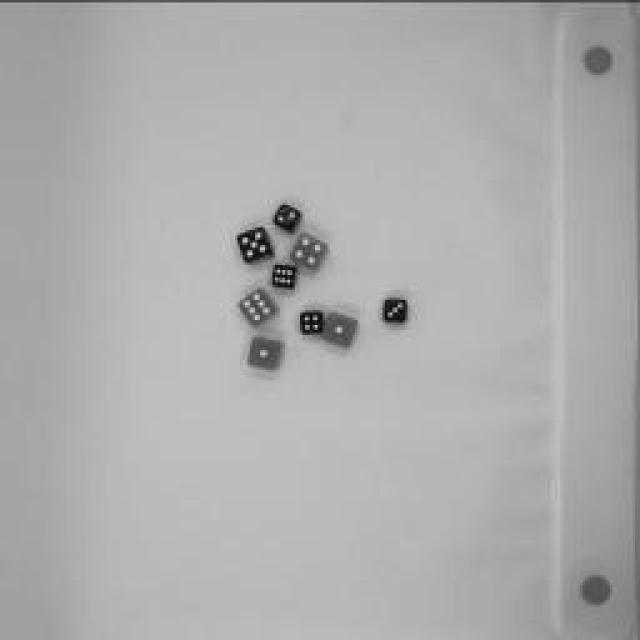dice_1: (245, 330, 290, 378), (318, 306, 362, 354)
dice_2: (269, 195, 306, 235)
dice_3: (379, 290, 416, 328)
dice_4: (287, 228, 335, 274), (295, 305, 327, 337)
dice_5: (232, 222, 278, 268)
dice_6: (236, 281, 284, 329), (265, 256, 303, 292)
